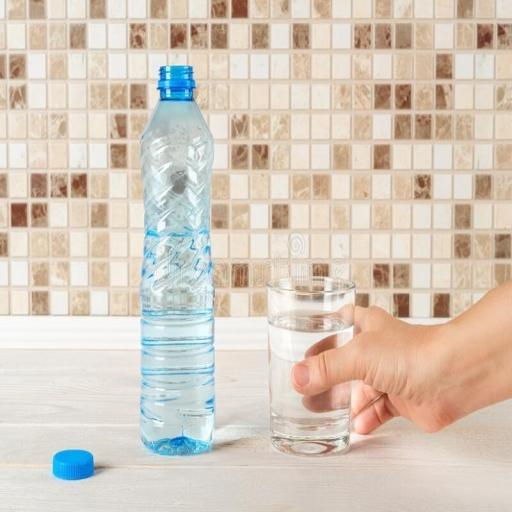bottle: (130, 56, 222, 460)
